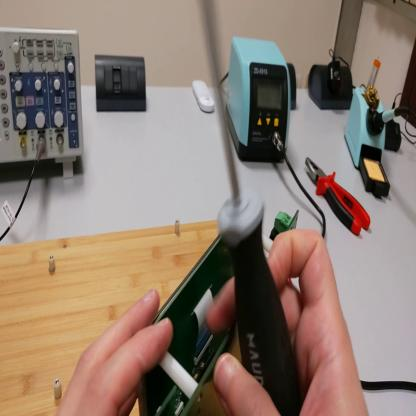electric screwdriver battery: (386, 120, 404, 154)
hand: (202, 227, 370, 416), (57, 291, 176, 415)
oscilloscope: (1, 31, 85, 181)
pliers: (305, 157, 371, 235)
screwdriver-: (200, 2, 305, 414)
socket: (308, 62, 354, 113), (287, 63, 297, 108)
welder base: (345, 84, 393, 198)
welder probe tip: (372, 104, 404, 131)
welder station: (226, 41, 290, 165)
working area: (3, 222, 259, 414)
